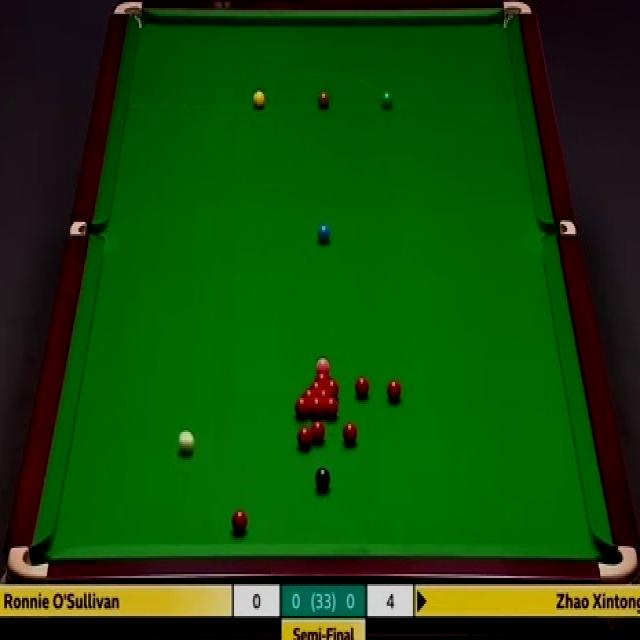black-ball: (314, 465, 330, 493)
blue-ball: (316, 222, 330, 246)
brown-ball: (318, 92, 330, 109)
green-ball: (382, 90, 393, 110)
pink-ball: (314, 357, 330, 373)
red-ball: (229, 509, 248, 536), (353, 373, 371, 396), (310, 420, 326, 445), (296, 424, 312, 449), (387, 378, 402, 402), (294, 396, 309, 420), (342, 422, 358, 444), (308, 396, 324, 417), (324, 397, 339, 418), (322, 382, 340, 394), (314, 370, 331, 380), (302, 389, 316, 401), (315, 389, 330, 399), (309, 382, 324, 391)
white-ball: (176, 426, 196, 454)
yellow-ball: (252, 89, 267, 110)
